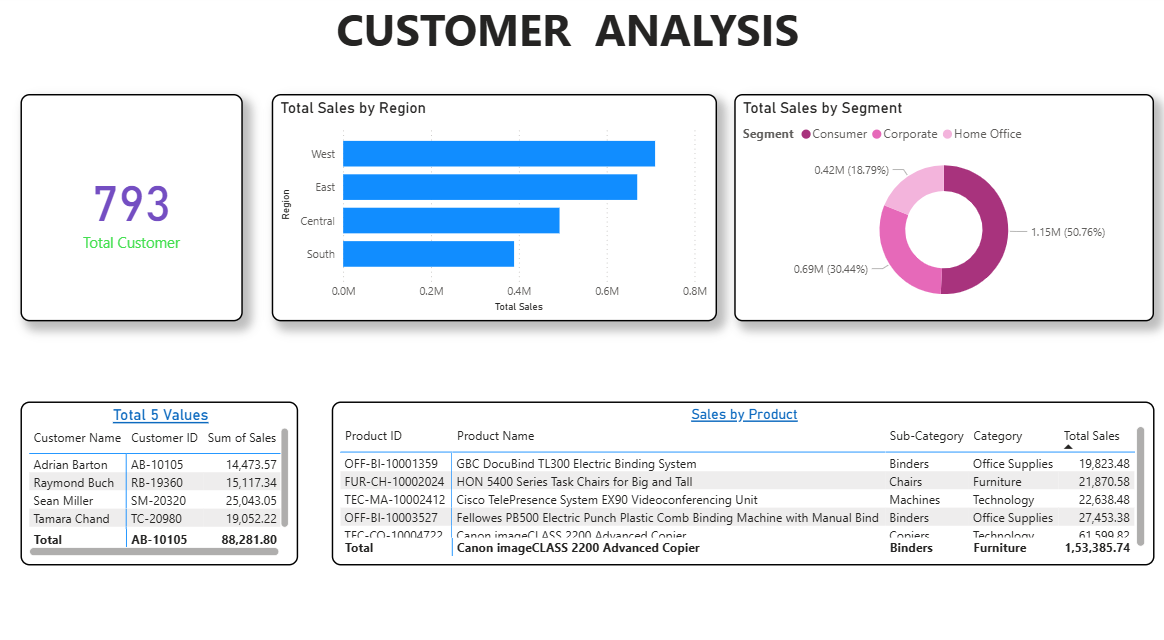

What the dashboard file says about the page in this screenshot:
{"tool":"powerbi","page":{"name":"CA","canvas":[1280,720],"ordinal":1},"visuals":[{"type":"textbox","box":[366.4,0,540.7,74.1],"z":0},{"type":"card","fields":{"Values":["Count(SalesData.Customer ID)"]},"box":[24.7,109.8,244.3,249.7],"z":1000},{"type":"clusteredBarChart","fields":{"Category":["SalesData.Region"],"Y":["Sum(SalesData.Sales)"]},"box":[300.5,109.8,488.5,249.7],"z":2000},{"type":"donutChart","fields":{"Category":["SalesData.Segment"],"Y":["Sum(SalesData.Sales)"]},"box":[808.1,109.3,451.2,250],"z":3000},{"type":"pivotTable","title":"Total 5 Values","fields":{"Rows":["SalesData.Customer Name"],"Values":["Min(SalesData.Customer ID)","Sum(SalesData.Sales)"]},"box":[24.7,447.3,304.6,179.8],"z":4000},{"type":"pivotTable","title":"Sales by Product","fields":{"Rows":["SalesData.Product ID"],"Values":["Min(SalesData.Product Name)","Min(SalesData.Sub-Category)","Min(SalesData.Category)","Sum(SalesData.Sales)"]},"box":[366.4,447.3,902.9,179.8],"z":5000}]}

Visuals, with their boxes in screenshot pixels (x1, y1, x2, y2), scaled from the page's 1280x720 canvas onto the 1164x640 screenshot:
textbox: crop(333, 0, 825, 66)
card - Count(SalesData.Customer ID): crop(22, 98, 245, 320)
clusteredBarChart - SalesData.Region x Sum(SalesData.Sales): crop(273, 98, 717, 320)
donutChart - SalesData.Segment x Sum(SalesData.Sales): crop(735, 97, 1145, 319)
"Total 5 Values" pivotTable: crop(22, 398, 299, 557)
"Sales by Product" pivotTable: crop(333, 398, 1154, 557)
